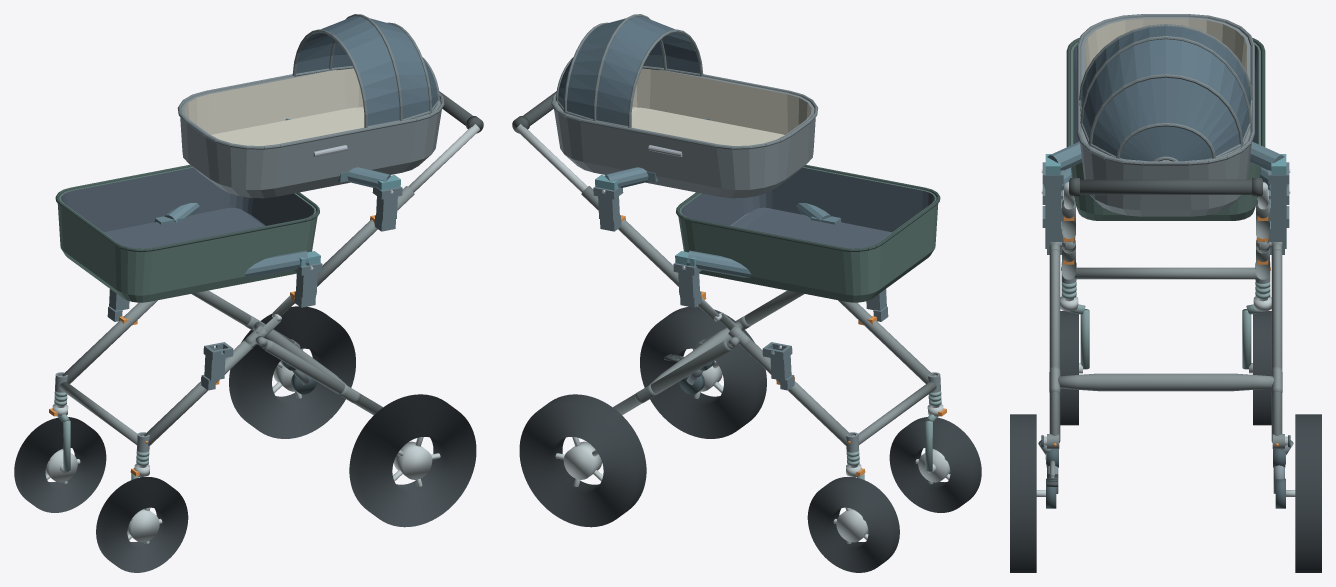
The model's file is D09_w550_state1_wheel_L.glb.
The picture shows the model from 3 angles, left to right: view 1: azimuth 30°, elevation 25°; view 2: azimuth 150°, elevation 25°; view 3: azimuth 270°, elevation 25°; orthographic projection. The views are drawn at different scales.
Parts seen in each view (by area): view 1: D09_Upper, D09_Lower, RL_tire.002, RR_tire.002, FL_tire.002, FR_tire.002, D09_Lower_Mount_M, V46_rear_leg_-1.003, main_lower_-1.003, main_lower_1.003, main_upper_-1.003, RL_sealed_hub.002 (+10 smaller); view 2: D09_Upper, D09_Lower, RR_tire.002, RL_tire.002, FR_tire.002, FL_tire.002, D09_Lower_Mount_M, V46_rear_leg_1.003, main_lower_1.003, main_lower_-1.003, main_upper_1.003, RR_sealed_hub.002 (+10 smaller); view 3: D09_Upper, D09_Lower, RL_tire.002, RR_tire.002, V46_rearbar.003, round_handle.002, front_fixed_round_tube.002, V46_rear_leg_1.003, V46_rear_leg_-1.003, FL_tire.002, FR_tire.002, D09_Upper_Mount_H (+8 smaller).
Boxes of the visible parts, bbox=[...] form: D09_Upper: bbox=[177, 14, 444, 198]; D09_Lower: bbox=[55, 164, 319, 302]; RL_tire.002: bbox=[349, 394, 476, 527]; RR_tire.002: bbox=[229, 306, 355, 438]; FL_tire.002: bbox=[96, 477, 188, 572]; FR_tire.002: bbox=[14, 417, 106, 512]; D09_Lower_Mount_M: bbox=[154, 203, 320, 277]; V46_rear_leg_-1.003: bbox=[264, 340, 382, 415]; main_lower_-1.003: bbox=[144, 340, 255, 446]; main_lower_1.003: bbox=[62, 300, 157, 383]; main_upper_-1.003: bbox=[317, 186, 414, 286]; RL_sealed_hub.002: bbox=[393, 441, 432, 479]; D09_Upper: bbox=[551, 14, 818, 198]; D09_Lower: bbox=[676, 164, 940, 302]; RR_tire.002: bbox=[519, 394, 646, 527]; RL_tire.002: bbox=[640, 306, 766, 438]; FR_tire.002: bbox=[807, 477, 899, 572]; FL_tire.002: bbox=[889, 417, 981, 512]; D09_Lower_Mount_M: bbox=[675, 203, 841, 277]; V46_rear_leg_1.003: bbox=[613, 340, 731, 415]; main_lower_1.003: bbox=[740, 340, 851, 446]; main_lower_-1.003: bbox=[838, 300, 933, 383]; main_upper_1.003: bbox=[581, 186, 678, 286]; RR_sealed_hub.002: bbox=[563, 441, 602, 479]; D09_Upper: bbox=[1077, 14, 1254, 216]; D09_Lower: bbox=[1066, 38, 1265, 220]; RL_tire.002: bbox=[1010, 414, 1036, 572]; RR_tire.002: bbox=[1295, 414, 1321, 572]; V46_rearbar.003: bbox=[1058, 373, 1273, 391]; round_handle.002: bbox=[1069, 179, 1262, 194]; front_fixed_round_tube.002: bbox=[1074, 267, 1257, 279]; V46_rear_leg_1.003: bbox=[1271, 249, 1282, 442]; V46_rear_leg_-1.003: bbox=[1049, 249, 1060, 442]; FL_tire.002: bbox=[1060, 311, 1078, 425]; FR_tire.002: bbox=[1253, 311, 1271, 425]; D09_Upper_Mount_H: bbox=[1041, 141, 1290, 174].
Bounding box in the file's own units: 1.19 × 1.35 × 0.7071.
